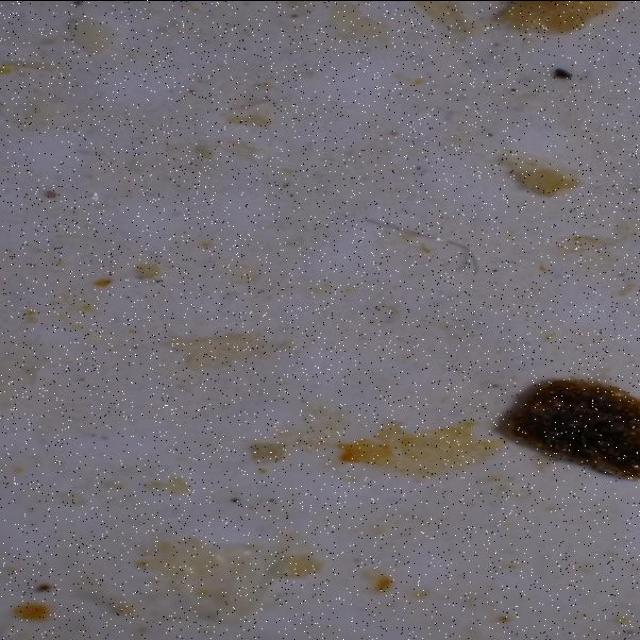Fragment: (484, 366, 640, 496)
